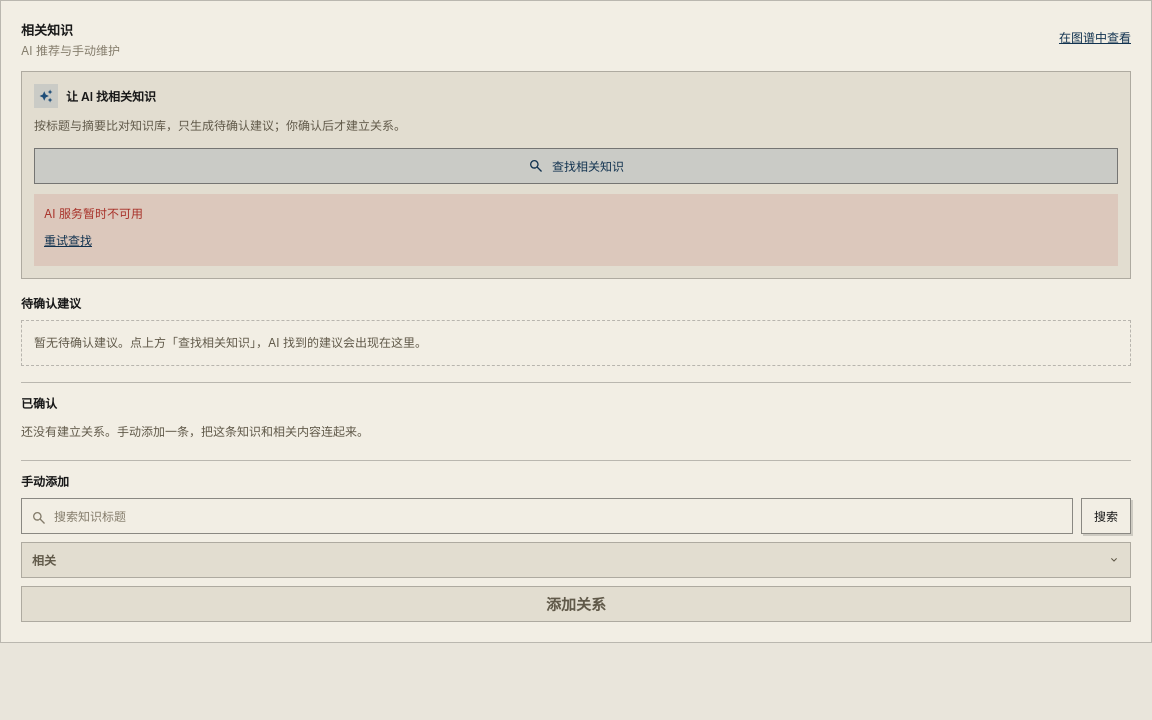
Test: KnowledgeRelationsPanel suggestions › shows a Chinese failure reason and retries the task
Click the button "重试查找" at [68, 240], box [44,224,92,256]
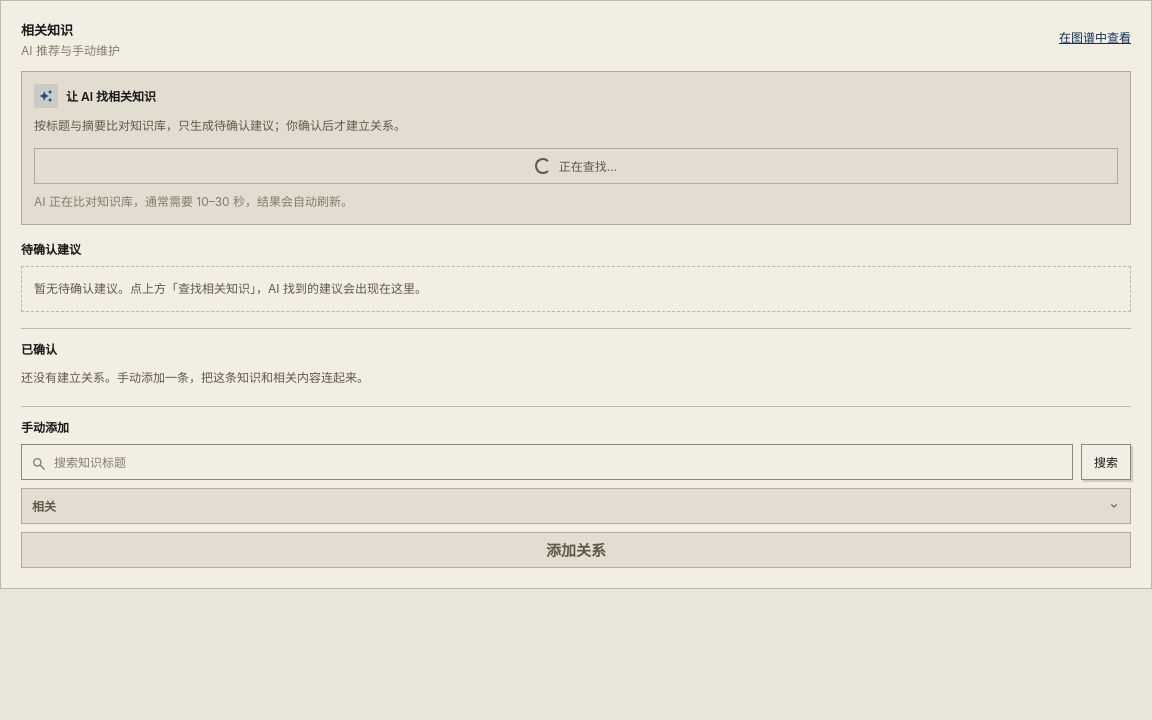
Expected: the text "正在查找" is shown, [34,148,1118,184]
